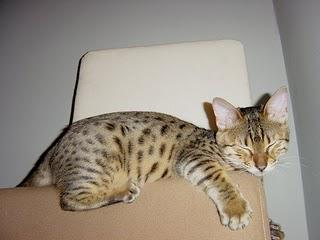cat-Bengal: (211, 85, 288, 175)
